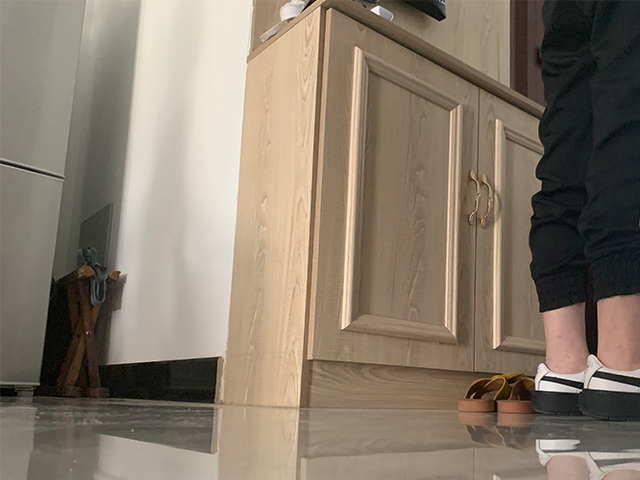cabinet: (214, 1, 547, 410)
slippers: (457, 373, 502, 414), (497, 373, 534, 414)
